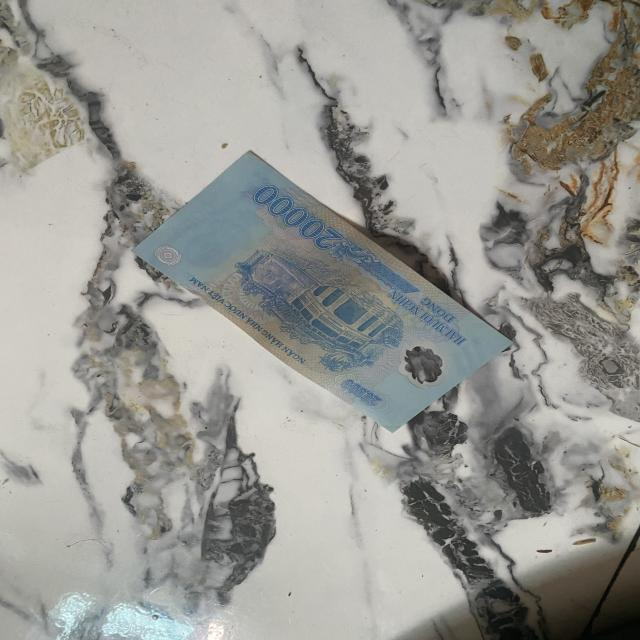20 000 VND: (128, 148, 516, 436)
